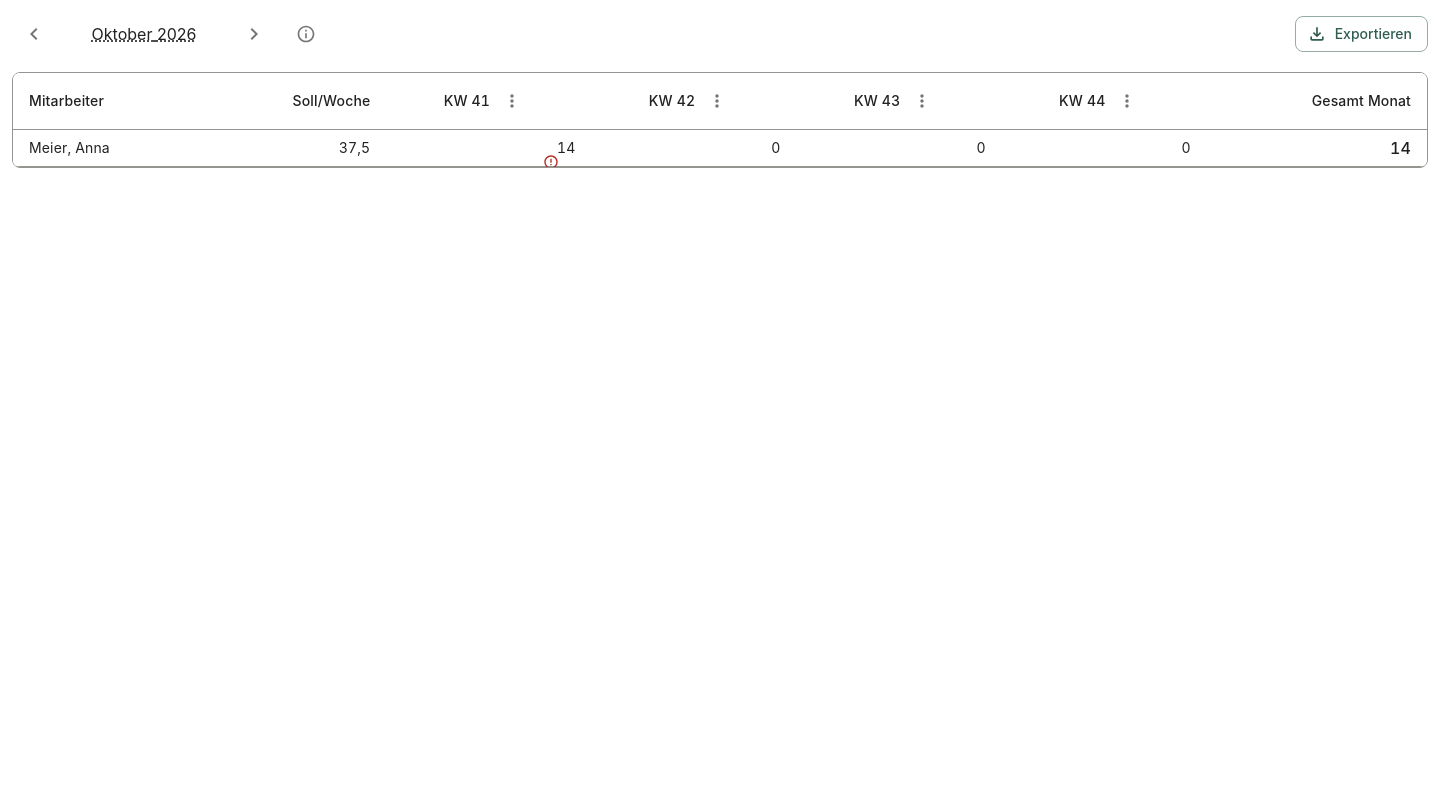
Scenario: MonthOverviewView › closes the week-cell warning tooltip when clicking a different, unrelated element (click-away)
The width and height of the screenshot is (1440, 810).
Click the button named "Fehler anzeigen" at (552, 162), box left=530, top=140, right=574, bottom=184
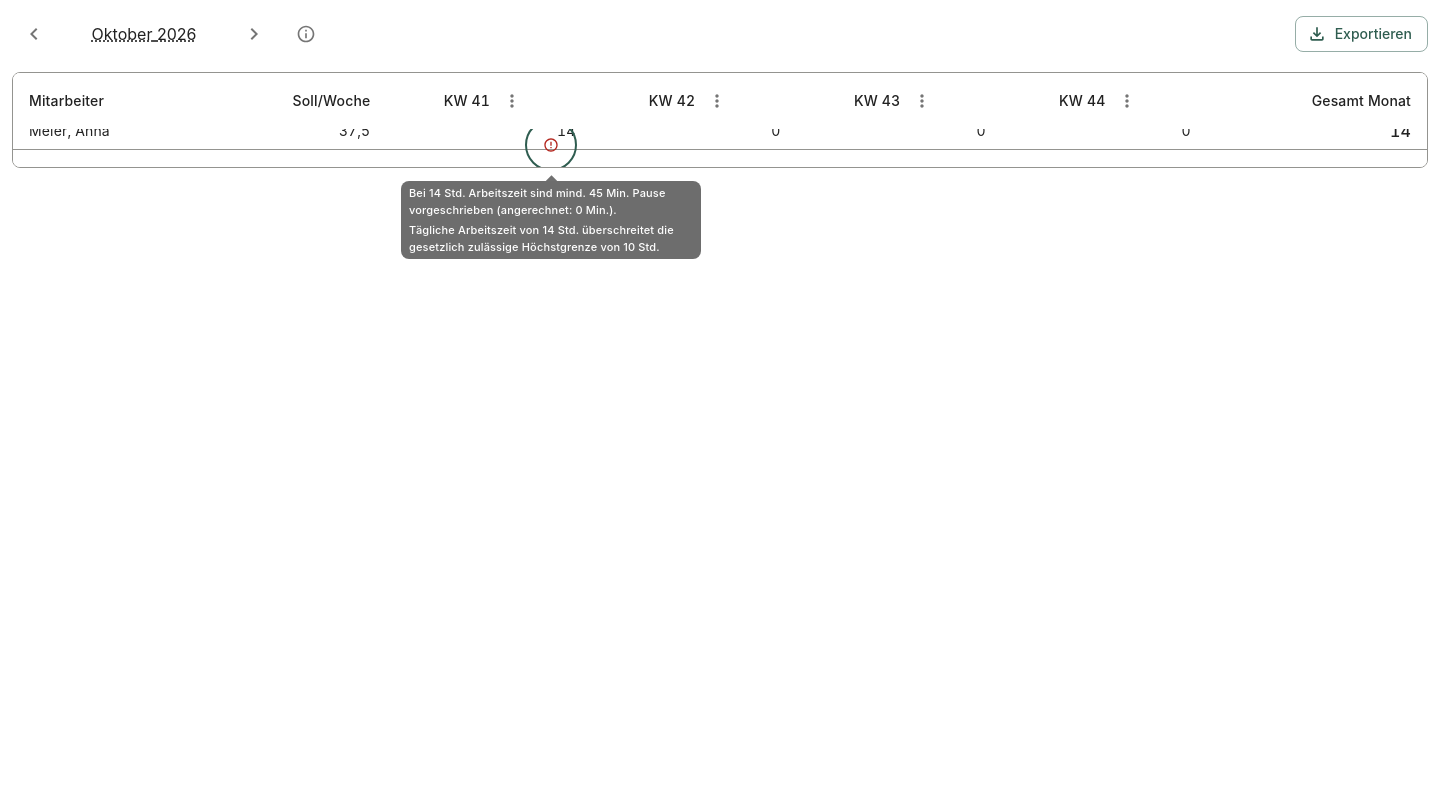
Result: the text "überschreitet die gesetzlich zulässige Höchstgrenze" is shown at left=409, top=223, right=674, bottom=254
Click the button "Oktober 2026" at (144, 34), box left=64, top=14, right=224, bottom=54
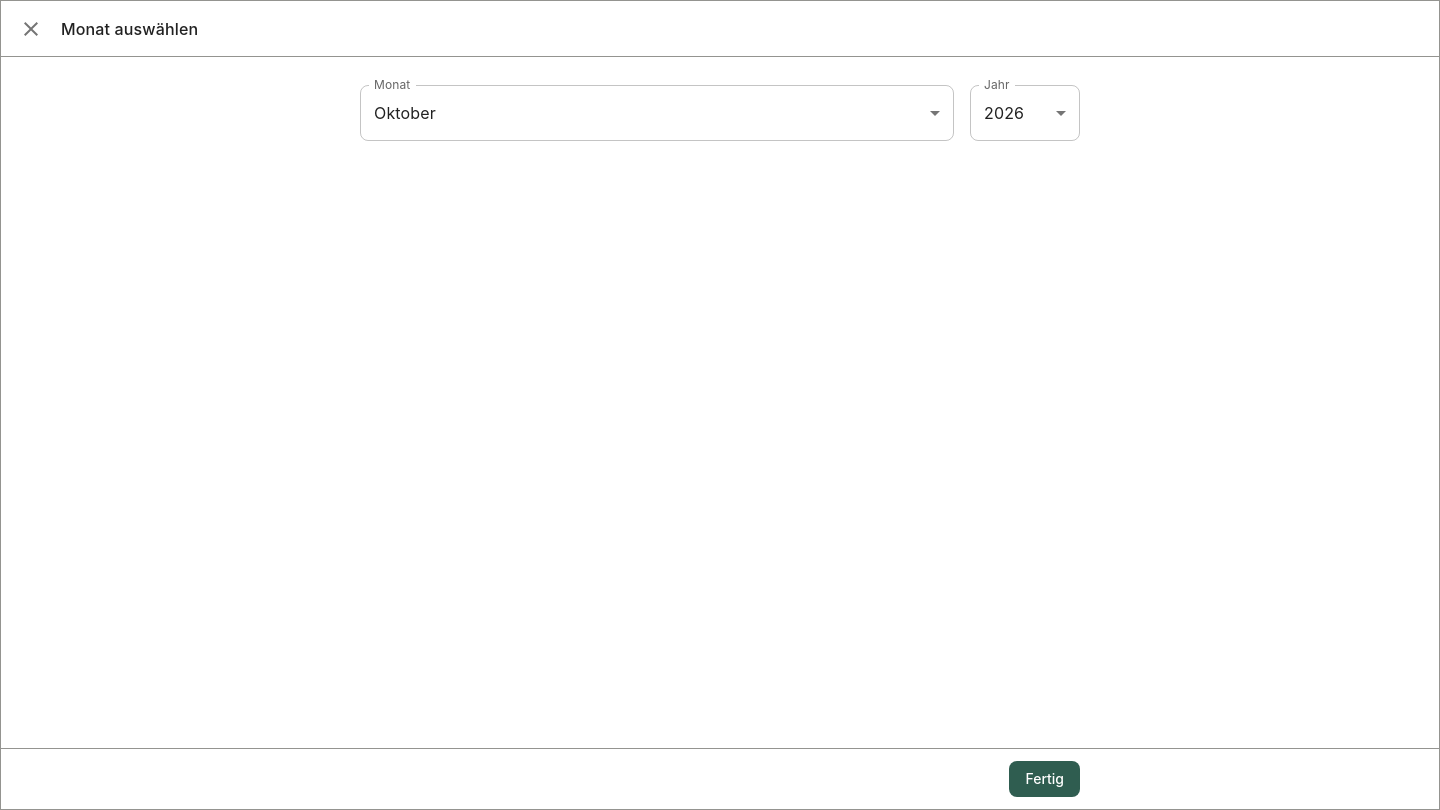
Result: the text "überschreitet die gesetzlich zulässige Höchstgrenze" is gone
